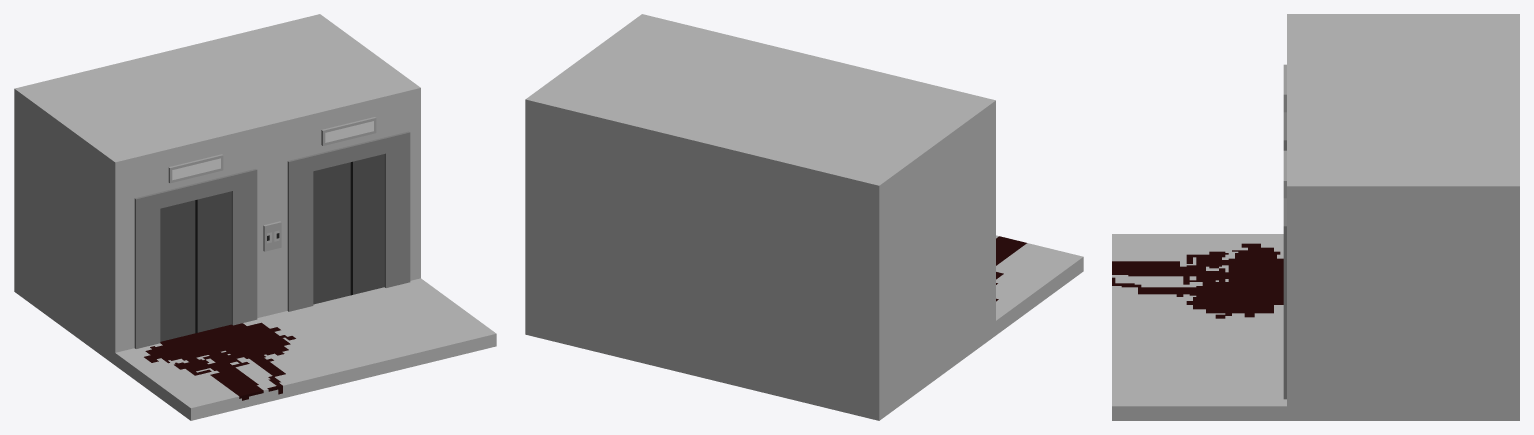
Rendered from 4x2 first (1)-4.obj.
3 views of the same model, side by side, from view 1: azimuth 30°, elevation 25°; view 2: azimuth 150°, elevation 25°; view 3: azimuth 270°, elevation 25° (orthographic). The views are drawn at different scales.
Visible parts, largest first — view 1: 4x2 first (1)-4; view 2: 4x2 first (1)-4; view 3: 4x2 first (1)-4.
Boxes of the visible parts, left/top/right/bottom form: 4x2 first (1)-4: left=14, top=14, right=496, bottom=420; 4x2 first (1)-4: left=525, top=14, right=1083, bottom=420; 4x2 first (1)-4: left=1112, top=14, right=1519, bottom=420.
Size of the model in its own units: 126 by 80 by 126.
1 material, 1 textured.
